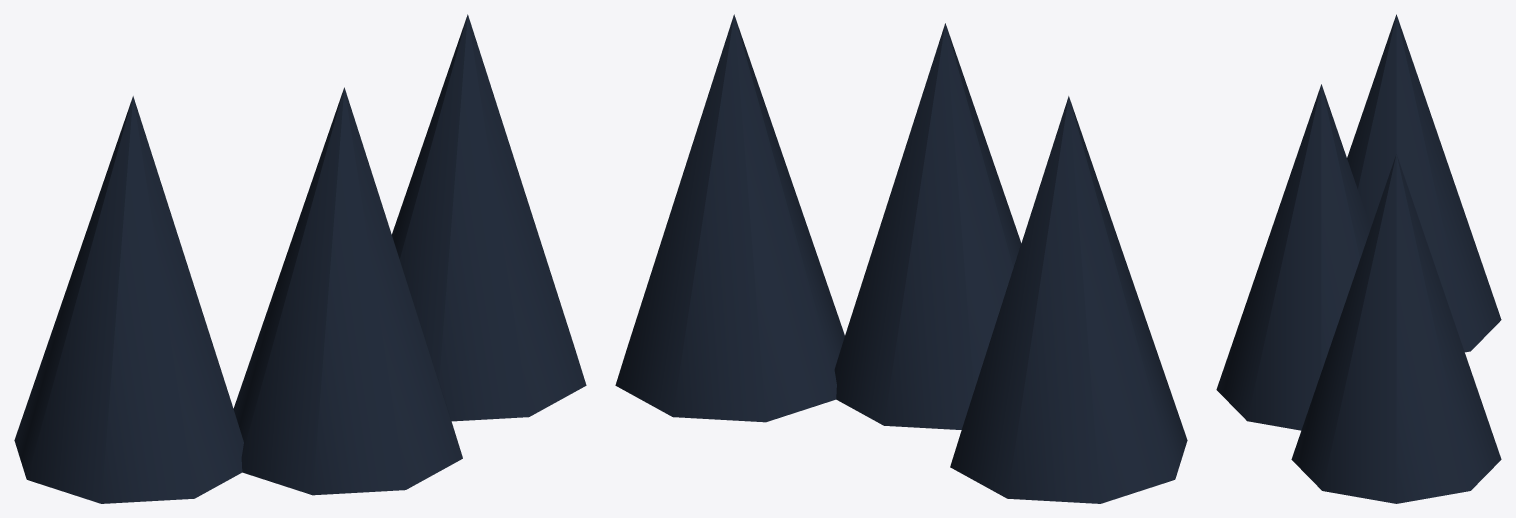
File: spiky.glb
The picture shows the model from 3 angles, left to right: view 1: azimuth 30°, elevation 25°; view 2: azimuth 150°, elevation 25°; view 3: azimuth 270°, elevation 25°; orthographic projection. The views are drawn at different scales.
Size of the model in its own units: 7.2 by 4.5 by 3.8.
